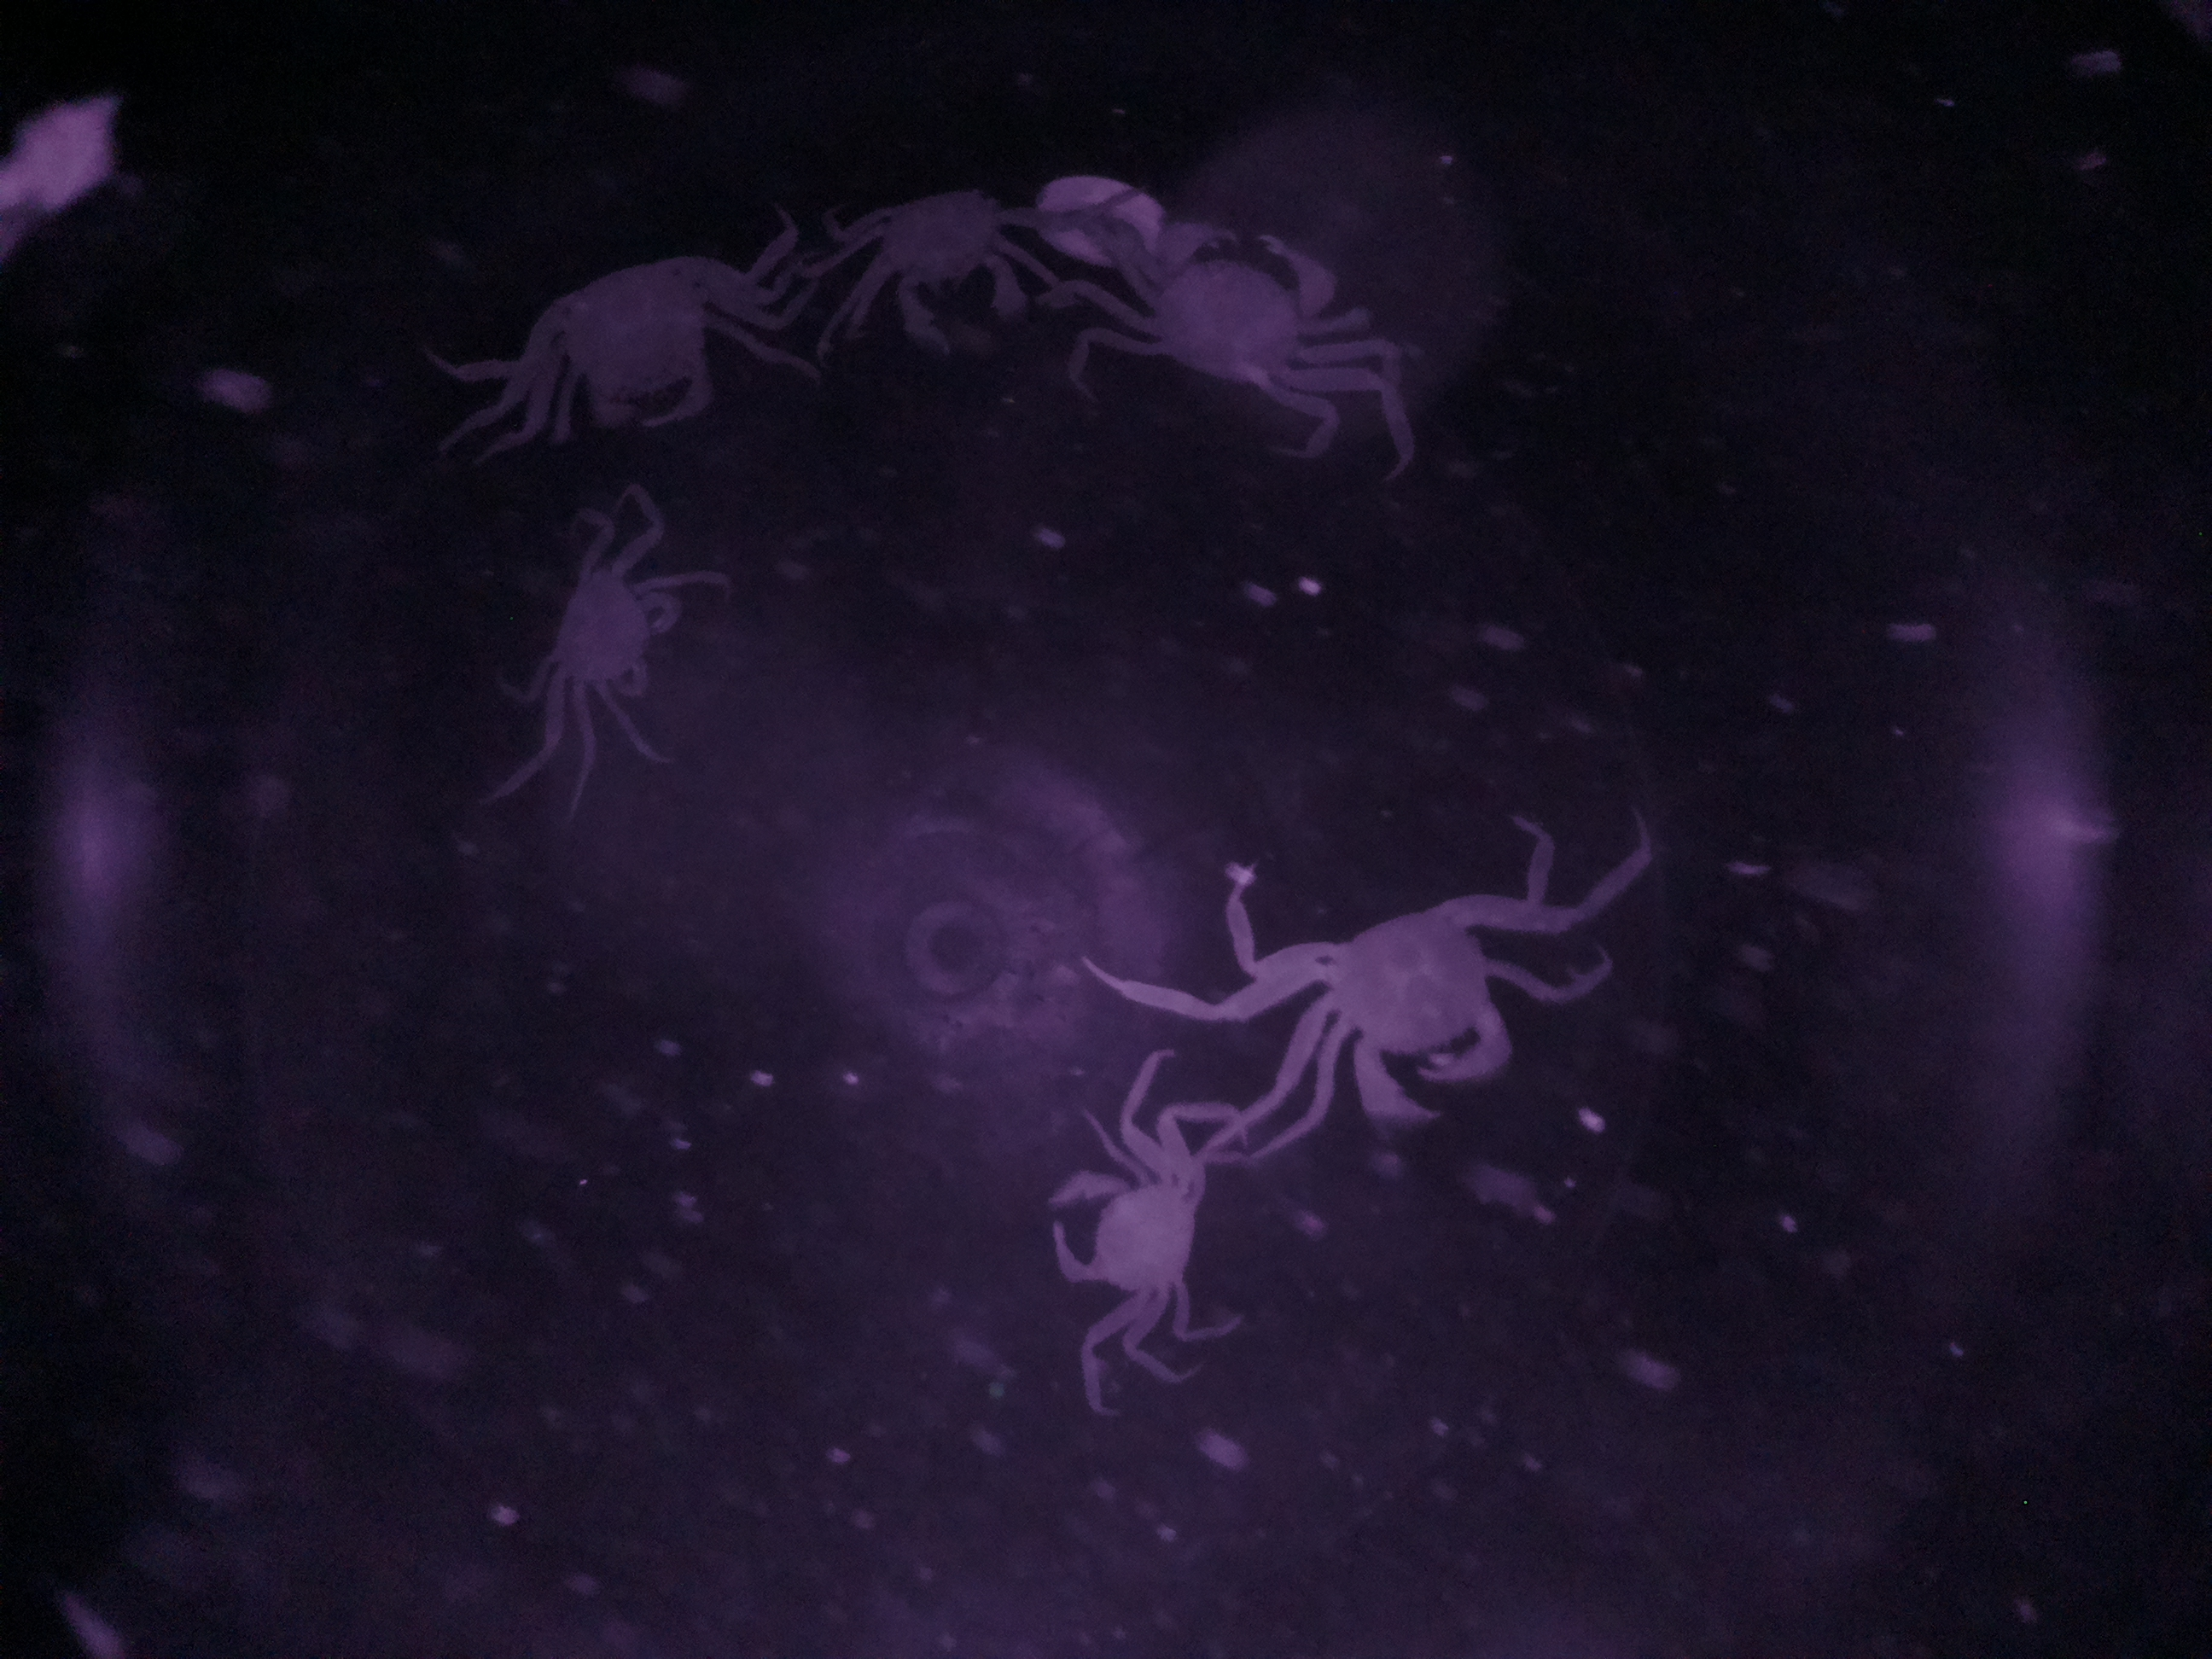Crab: (1268, 871, 1575, 1148), (1120, 207, 1362, 399), (1022, 1121, 1204, 1340), (869, 167, 1049, 368), (542, 530, 712, 732)
